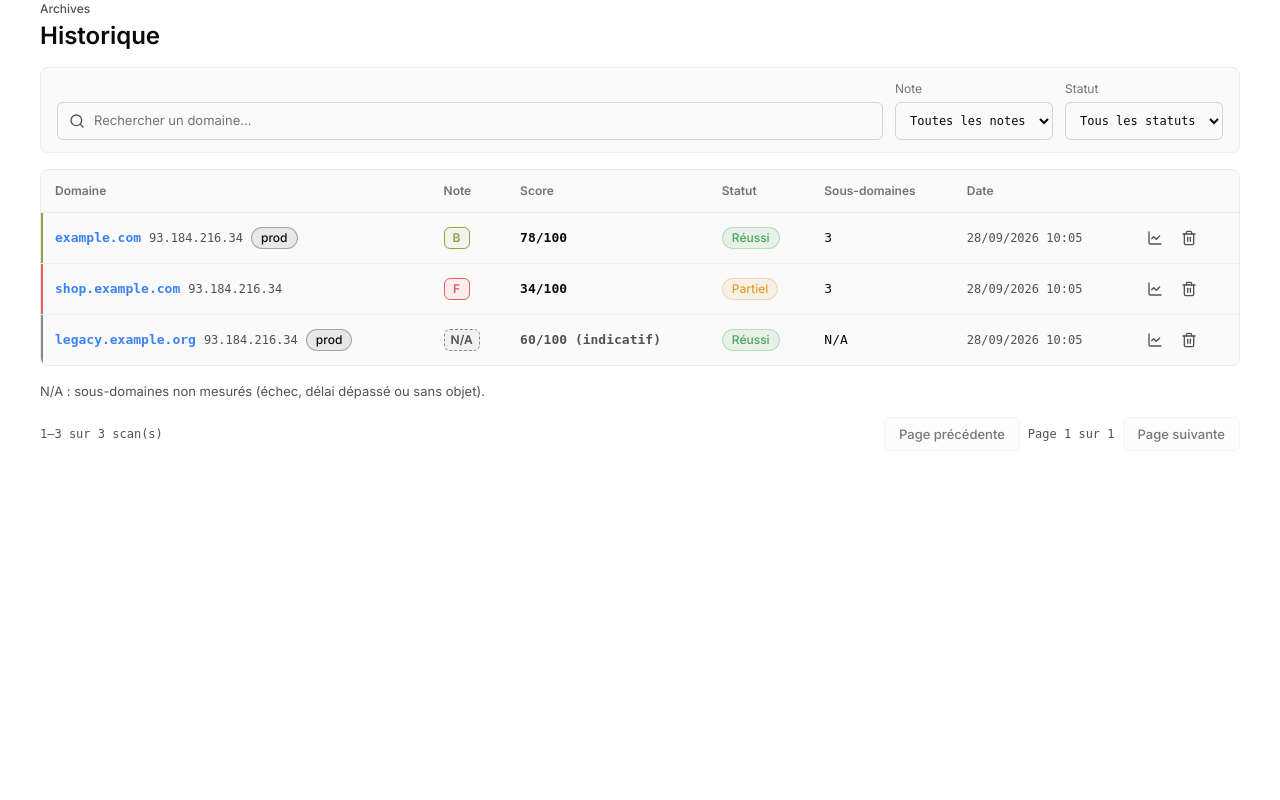
Test case: écran Historique › supprime après confirmation ; un scan déjà supprimé n'est pas une erreur
Click the button named "Supprimer le scan de example.com" at (1189, 238), box [1172,223,1206,253]
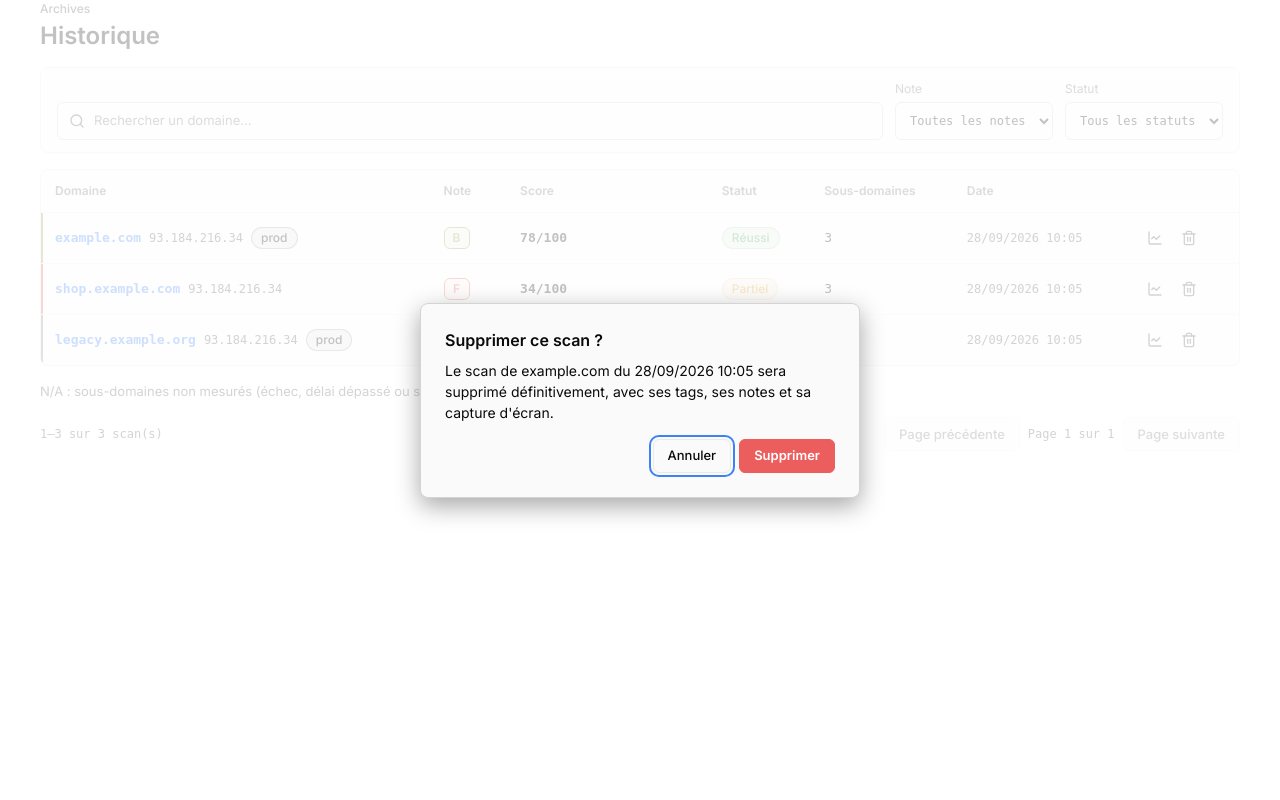
Expected: the dialog "Supprimer ce scan ?" shows "Le scan de example.com du", [445,362,811,420]
Click the button "Supprimer" at (787, 456), box [739,438,835,472]
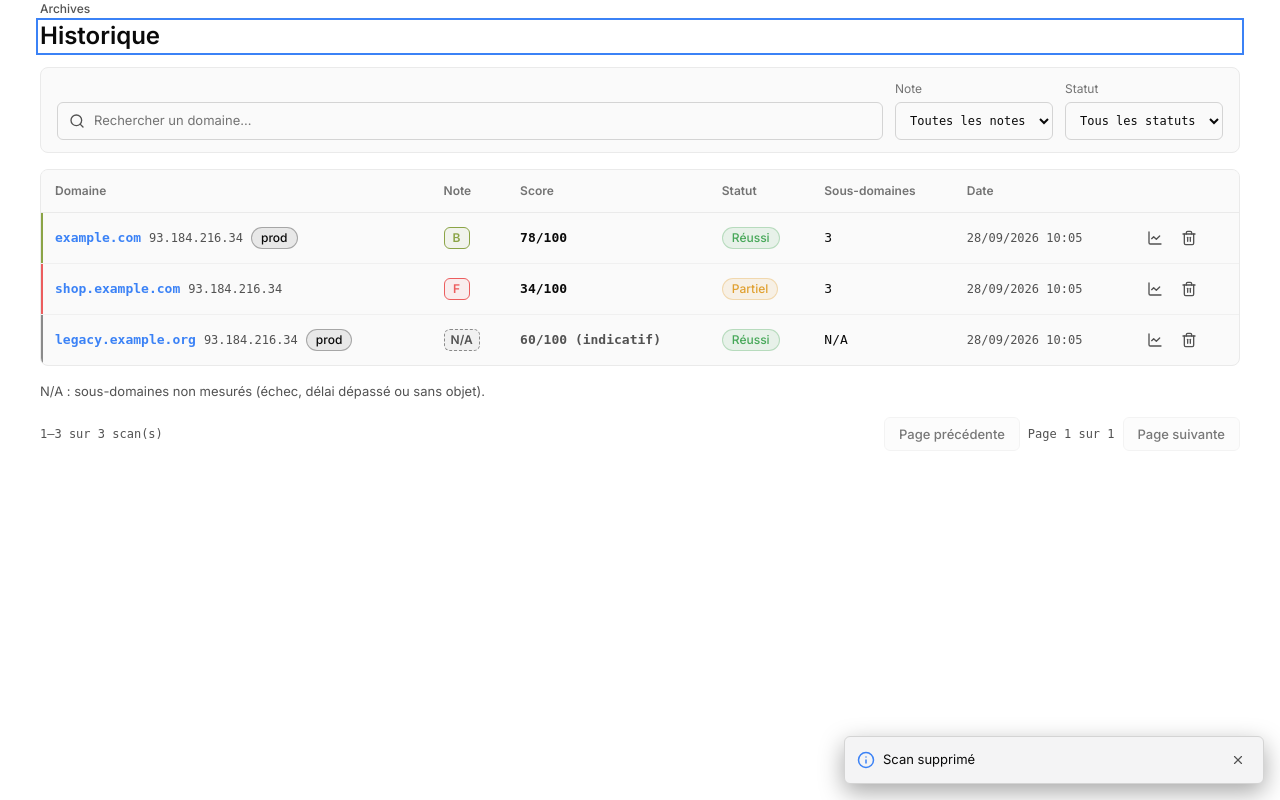
Expected: the text "Scan supprimé" is shown, [883,751,975,767]
Click the button named "Supprimer le scan de shop.example.com" at (1189, 289), box [1172,274,1206,304]
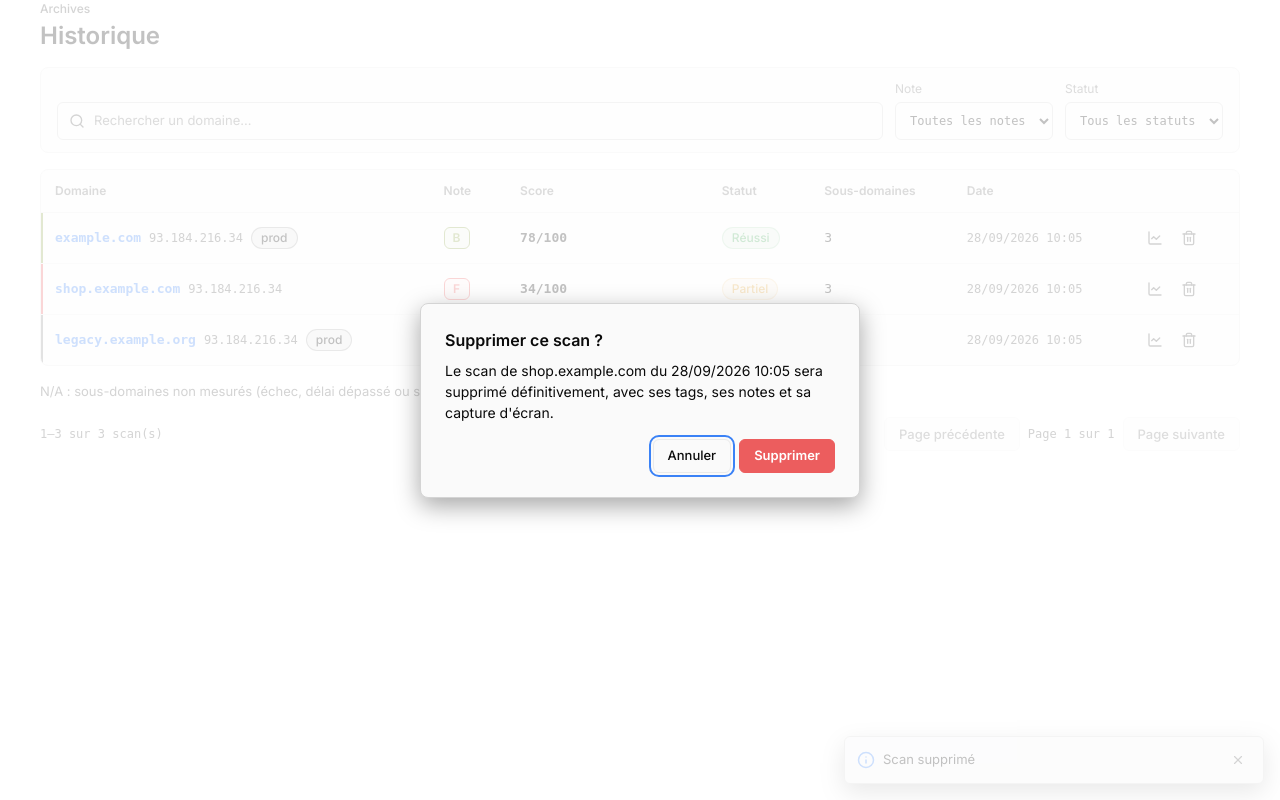
Click the button "Supprimer" at (787, 456), box [739,438,835,472]
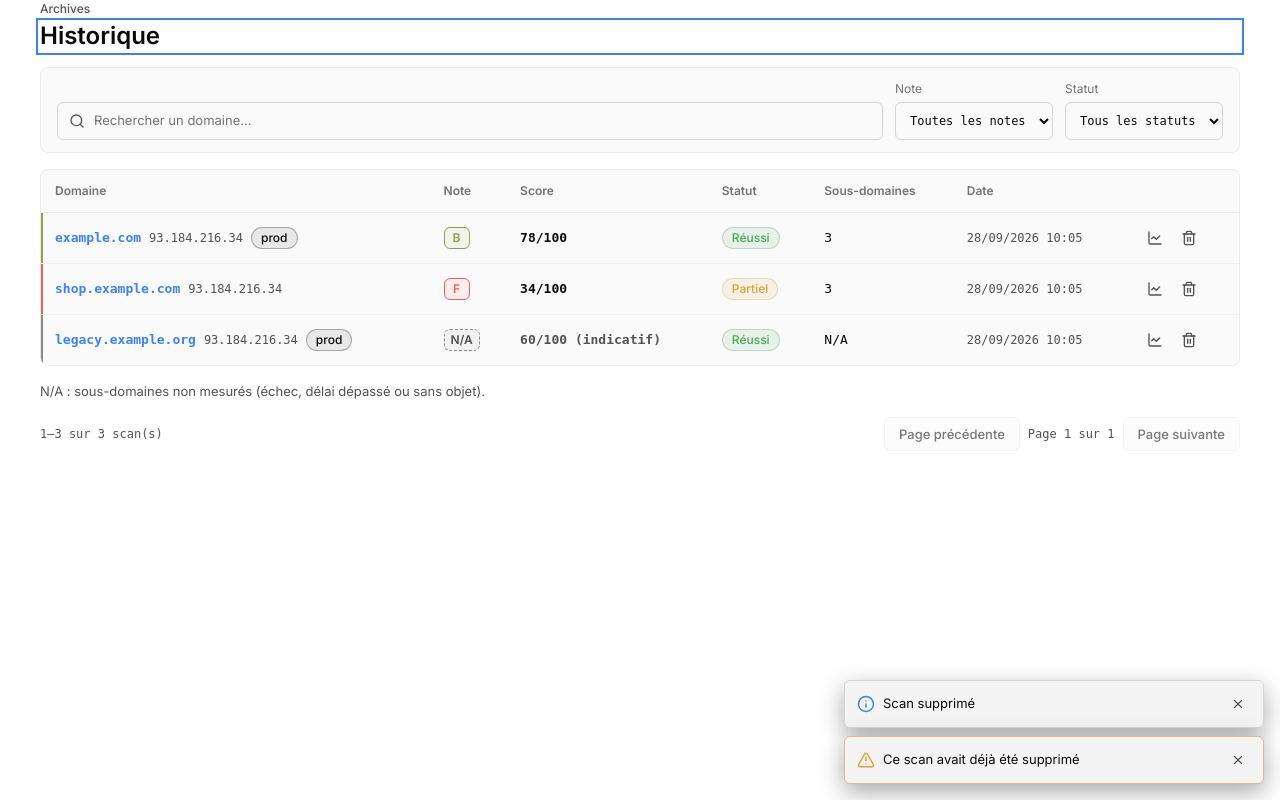
Expected: the text "Ce scan avait déjà été supprimé" is shown, [883,751,1080,767]
